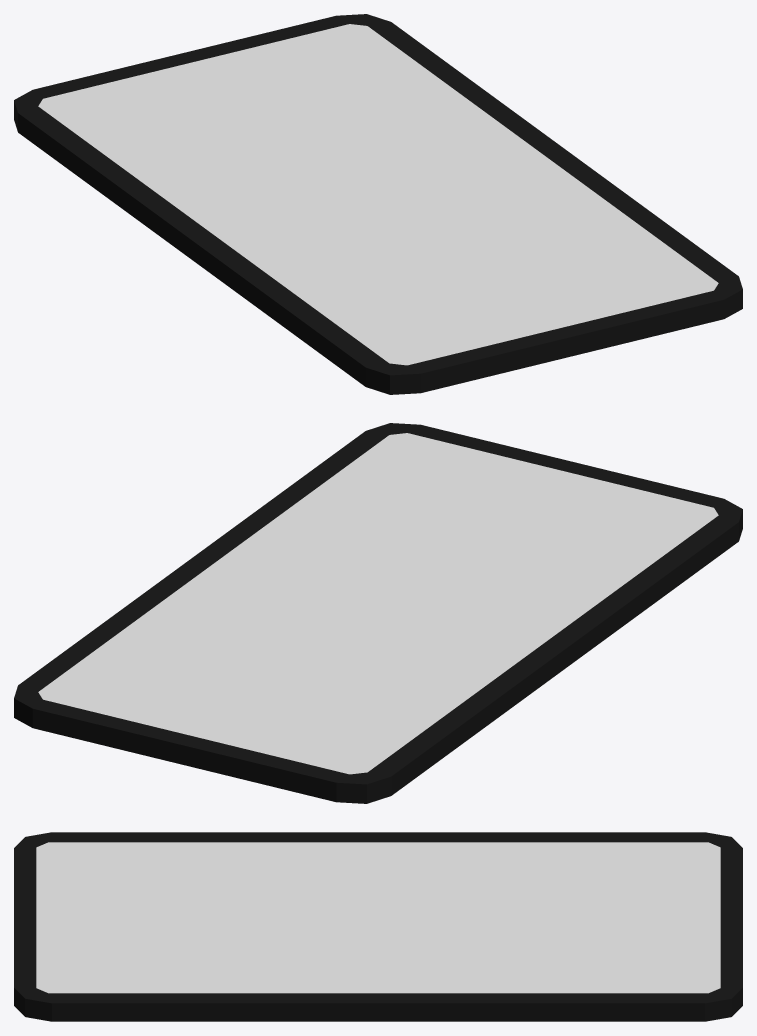
The model's file is phone.fbx.
3 views of the same model, one above another, from view 1: azimuth 30°, elevation 25°; view 2: azimuth 150°, elevation 25°; view 3: azimuth 270°, elevation 25° (orthographic). The views are drawn at different scales.
Parts seen in each view (by area): view 1: Phone; view 2: Phone; view 3: Phone.
Part boxes in pixels (x1,y1,x2,y2): Phone: [14, 14, 742, 394]; Phone: [14, 423, 742, 803]; Phone: [14, 832, 742, 1021].
Bounding box in the file's own units: 264 × 13.2 × 475.
